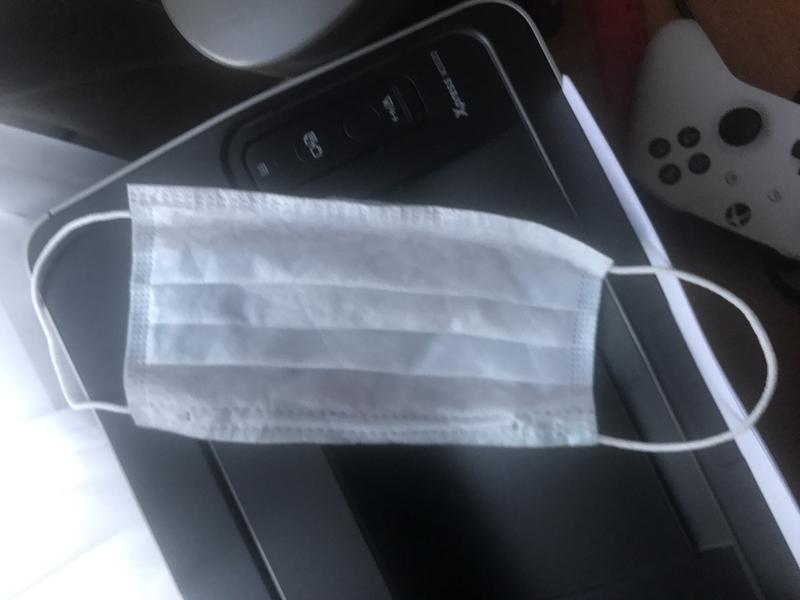medical_mask: (32, 184, 776, 455)
